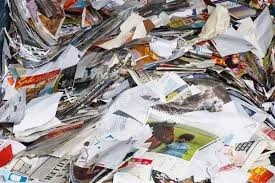paper: (74, 85, 155, 173), (107, 64, 200, 127), (136, 116, 225, 161), (8, 87, 71, 147), (177, 3, 237, 54), (237, 7, 273, 64), (204, 17, 250, 58)
